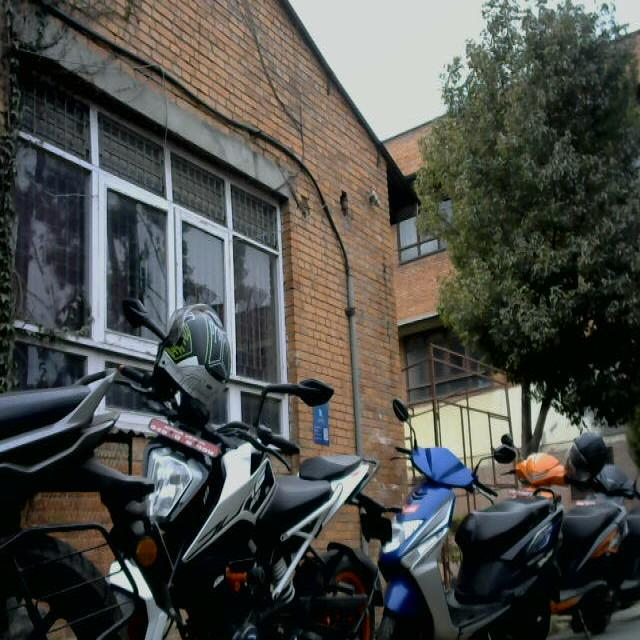Bike: (157, 293, 348, 640), (390, 375, 566, 640), (1, 349, 135, 639)
Buildings: (0, 0, 425, 423)
trees: (433, 9, 640, 336)
